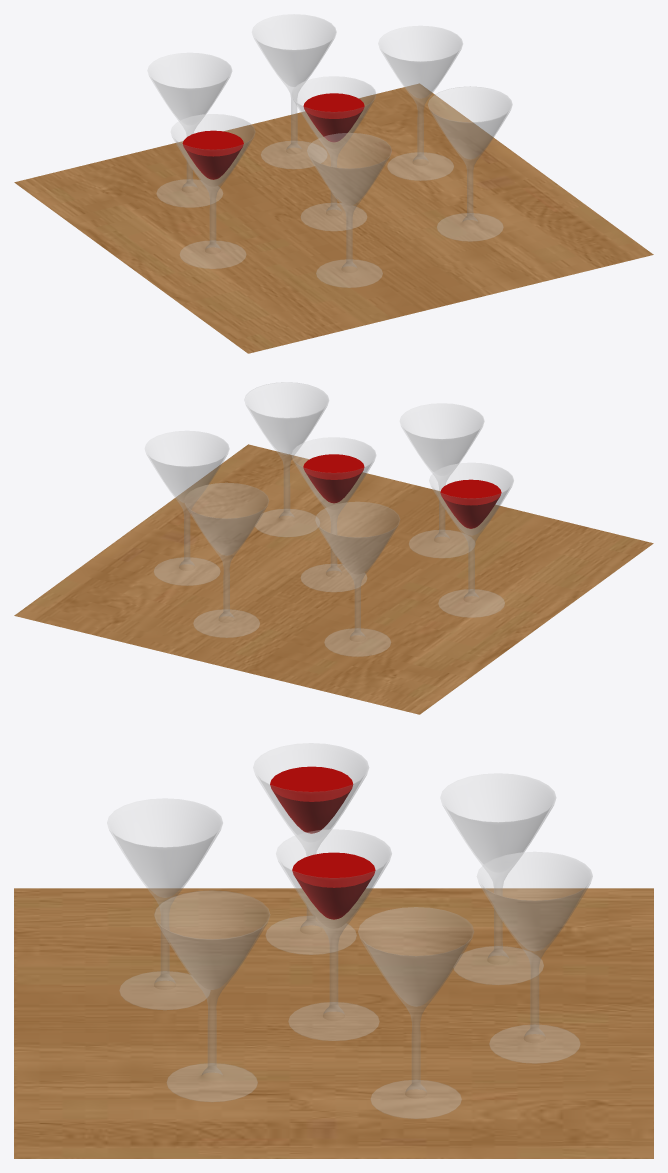
The model's file is glass.gltf.
The picture shows the model from 3 angles, top to bottom: view 1: azimuth 30°, elevation 25°; view 2: azimuth 150°, elevation 25°; view 3: azimuth 270°, elevation 25°; orthographic projection. The views are drawn at different scales.
Visible parts, largest first — view 1: Plane, Círculo.005, Círculo.001, Círculo.006, Círculo.002, Círculo.003, Círculo.004, Círculo, Círculo.009, Círculo.007; view 2: Plane, Círculo.002, Círculo.003, Círculo.001, Círculo.006, Círculo.005, Círculo.004, Círculo, Círculo.007, Círculo.009; view 3: Plane, Círculo.006, Círculo.001, Círculo.002, Círculo.005, Círculo.003, Círculo, Círculo.004, Círculo.007, Círculo.009.
Part boxes in pixels (left/top/right/bottom): Plane: left=14, top=83, right=653, bottom=353; Círculo.005: left=307, top=133, right=391, bottom=287; Círculo.001: left=378, top=26, right=462, bottom=180; Círculo.006: left=428, top=86, right=512, bottom=241; Círculo.002: left=252, top=14, right=336, bottom=168; Círculo.003: left=147, top=53, right=231, bottom=207; Círculo.004: left=171, top=114, right=255, bottom=268; Círculo: left=292, top=76, right=376, bottom=230; Círculo.009: left=182, top=130, right=243, bottom=179; Círculo.007: left=303, top=93, right=364, bottom=142; Plane: left=14, top=444, right=653, bottom=714; Círculo.002: left=184, top=483, right=268, bottom=637; Círculo.003: left=315, top=502, right=399, bottom=656; Círculo.001: left=145, top=431, right=229, bottom=585; Círculo.006: left=244, top=382, right=328, bottom=536; Círculo.005: left=400, top=403, right=484, bottom=557; Círculo.004: left=429, top=463, right=513, bottom=617; Círculo: left=291, top=437, right=375, bottom=591; Círculo.007: left=303, top=454, right=364, bottom=503; Círculo.009: left=440, top=479, right=501, bottom=528; Plane: left=14, top=888, right=653, bottom=1158; Círculo.006: left=154, top=890, right=269, bottom=1101; Círculo.001: left=358, top=907, right=473, bottom=1118; Círculo.002: left=477, top=852, right=592, bottom=1063; Círculo.005: left=107, top=798, right=222, bottom=1009; Círculo.003: left=440, top=773, right=555, bottom=984; Círculo: left=276, top=829, right=391, bottom=1040; Círculo.004: left=253, top=743, right=368, bottom=954; Círculo.007: left=292, top=852, right=375, bottom=919; Círculo.009: left=270, top=766, right=353, bottom=833.
Size of the model in its own units: 10.19 by 2.99 by 10.19.
Materials: 3 (1 with a texture image).
